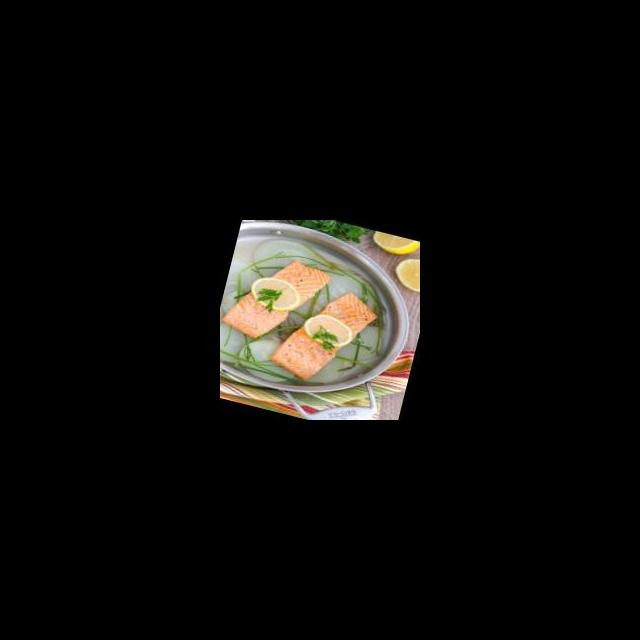ca hoi: (266, 274, 387, 396), (220, 243, 337, 355)
